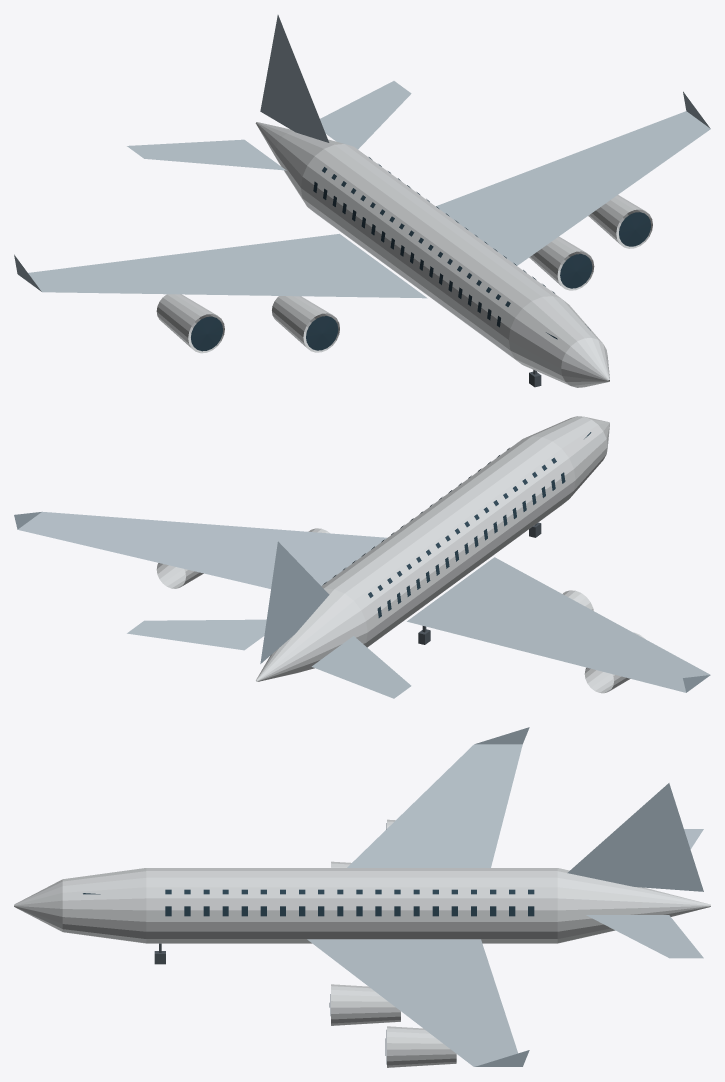
The model's file is a380-neutral.gltf.
3 views of the same model, one above another, from view 1: azimuth 30°, elevation 25°; view 2: azimuth 150°, elevation 25°; view 3: azimuth 270°, elevation 25° (orthographic).
Parts seen in each view (by area): view 1: object 1; view 2: object 1; view 3: object 1.
Part boxes in pixels (<box>): object 1: <box>14,15,710,387</box>; object 1: <box>14,416,710,698</box>; object 1: <box>14,727,710,1067</box>.
Bounding box in the file's own units: 80 × 20.82 × 73.
